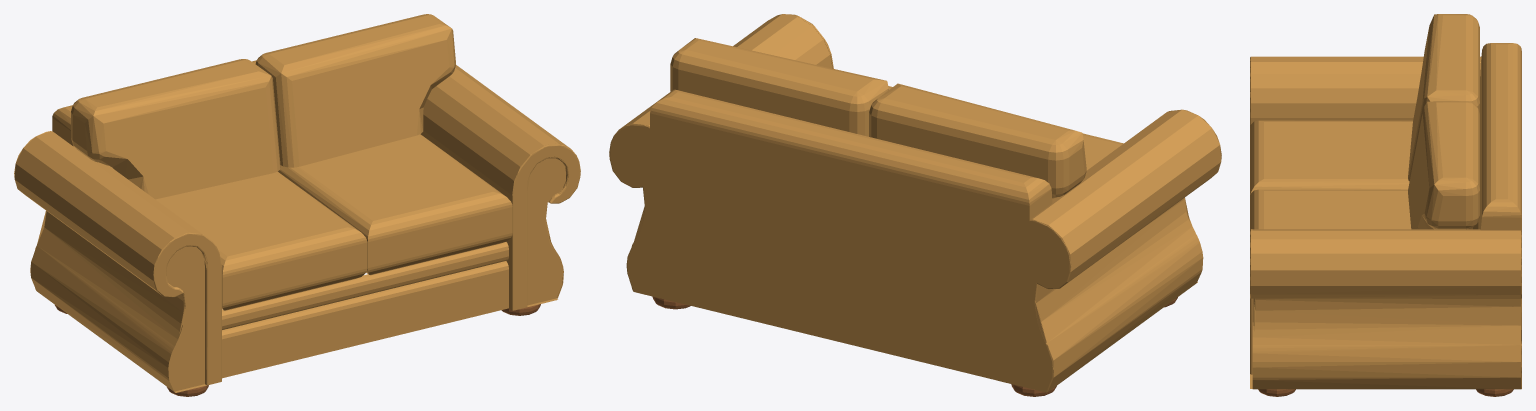
Rendered from couch-by-cmht-oculus-8bjY3kDnACV.glb.
3 renders of one model, left to right at view 1: azimuth 30°, elevation 25°; view 2: azimuth 150°, elevation 25°; view 3: azimuth 270°, elevation 25°, orthographic. The views are drawn at different scales.
Parts seen in each view (by area): view 1: Node; view 2: Node; view 3: Node.
Boxes of the visible parts, x1,y1,x2,y2 form: Node: [14, 14, 580, 396]; Node: [609, 14, 1221, 396]; Node: [1250, 14, 1521, 396].
Size of the model in its own units: 68.87 by 34 by 39.
